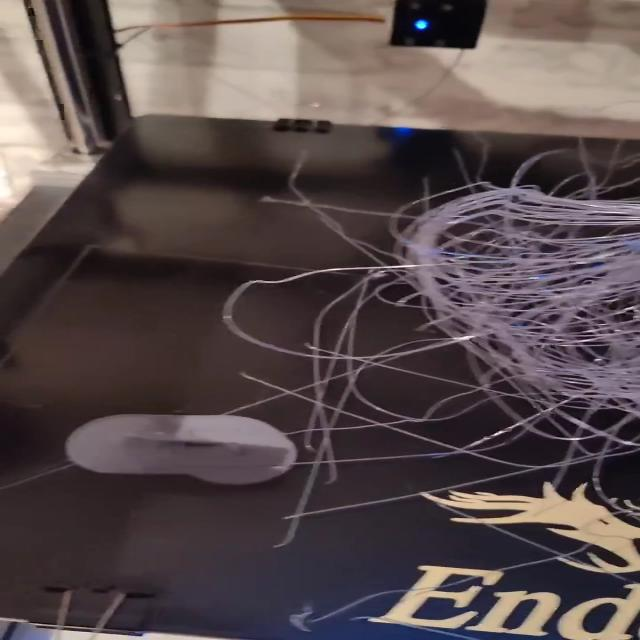spaghetti: (210, 133, 640, 576)
